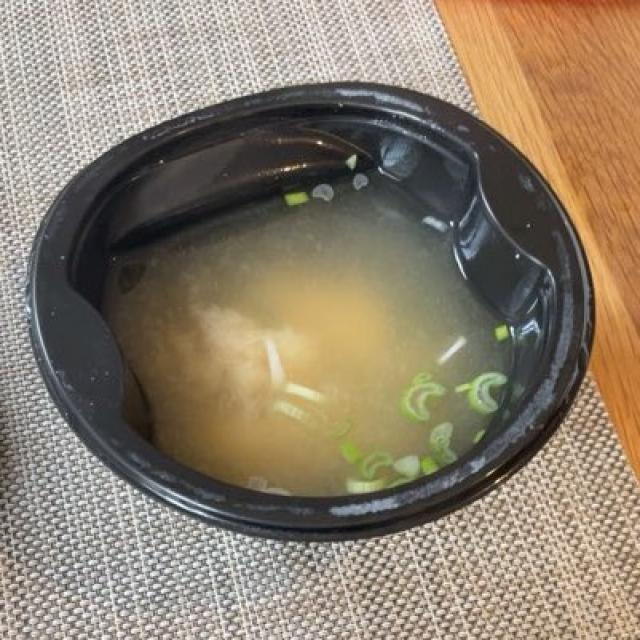soup: (108, 167, 513, 490)
